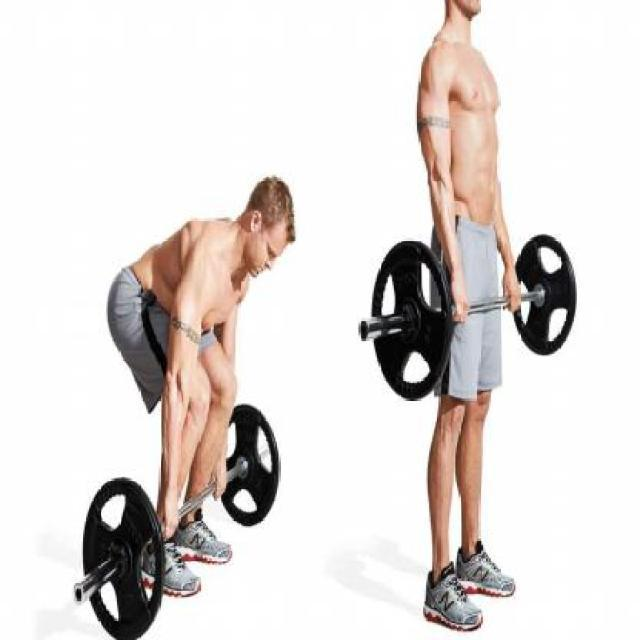barbell: (364, 229, 460, 409), (77, 468, 173, 640), (510, 224, 584, 361)
